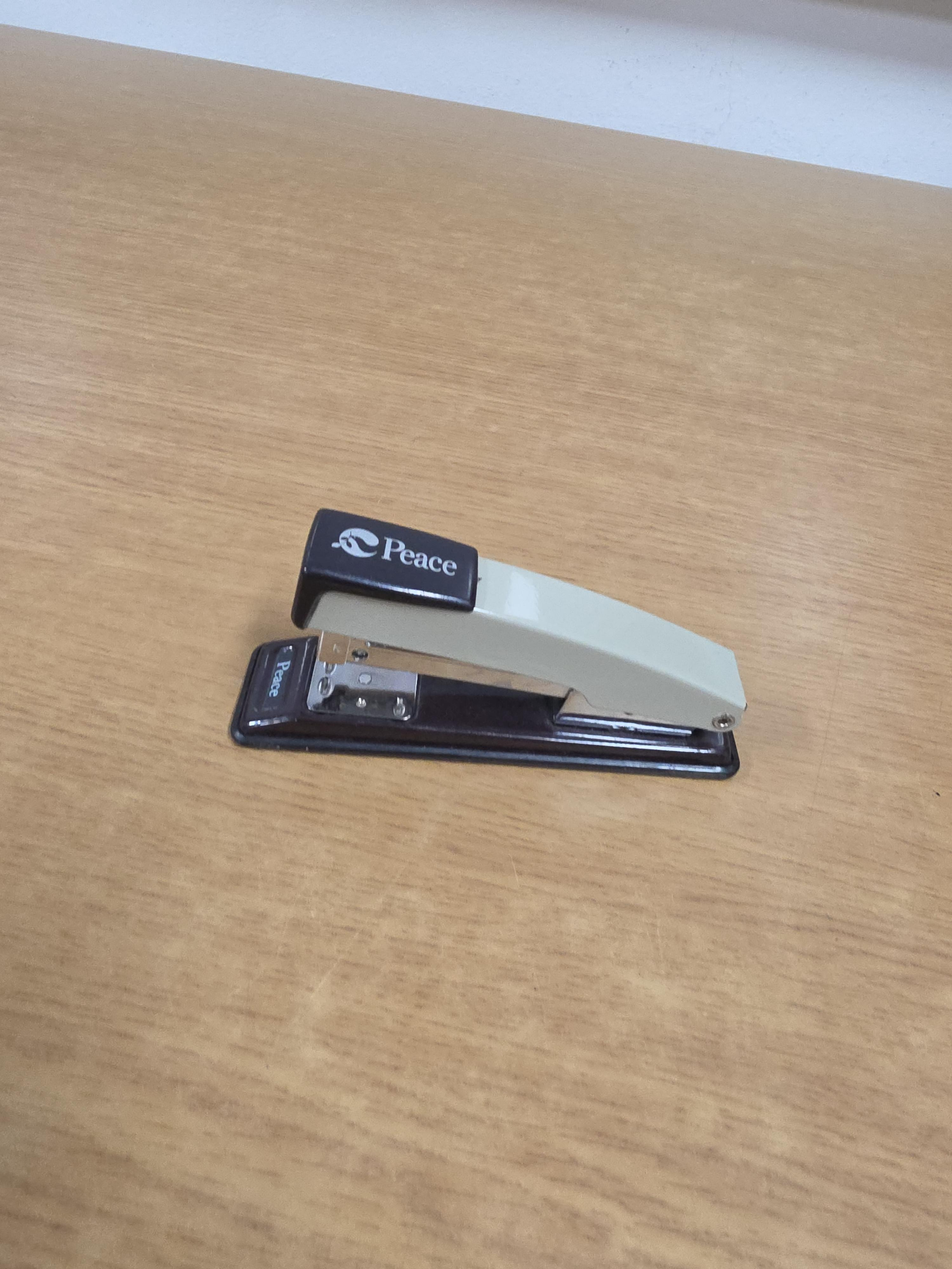stapler: (231, 508, 748, 779)
